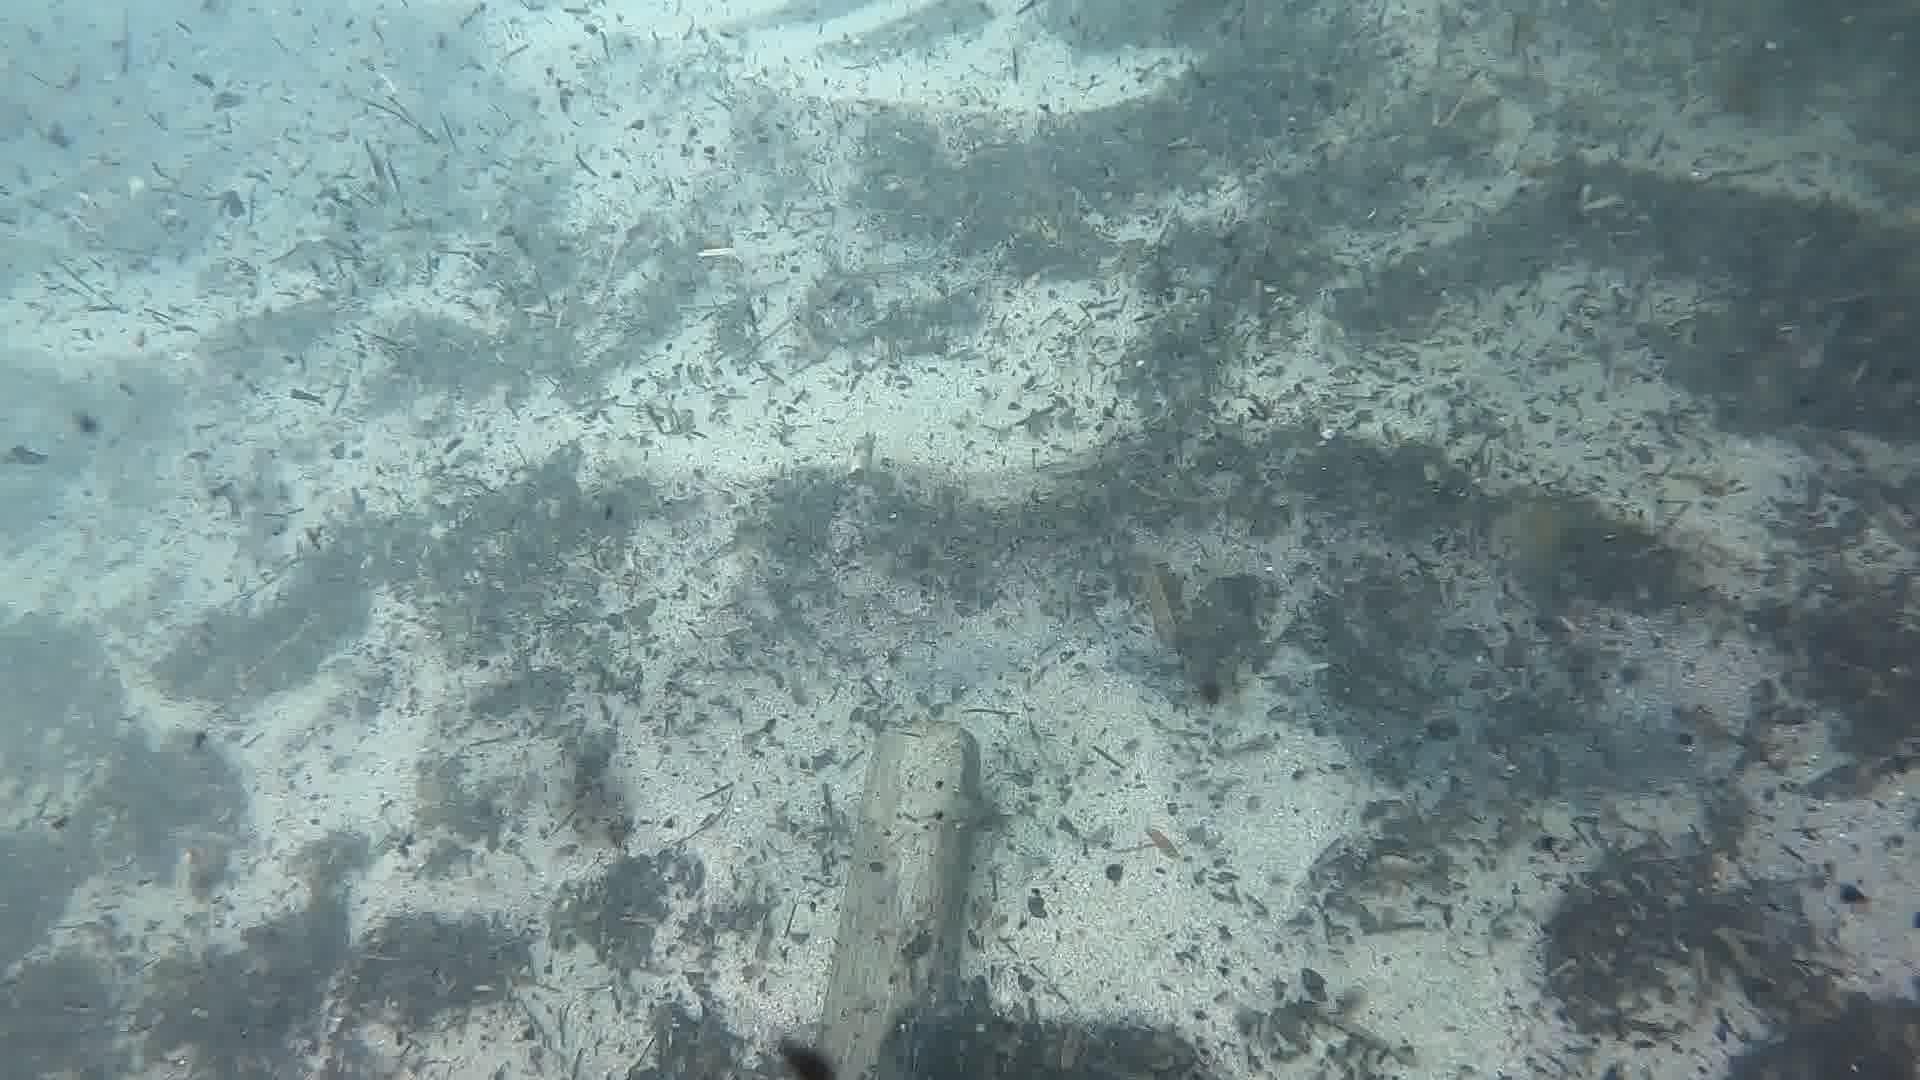wood: (804, 721, 990, 1080)
